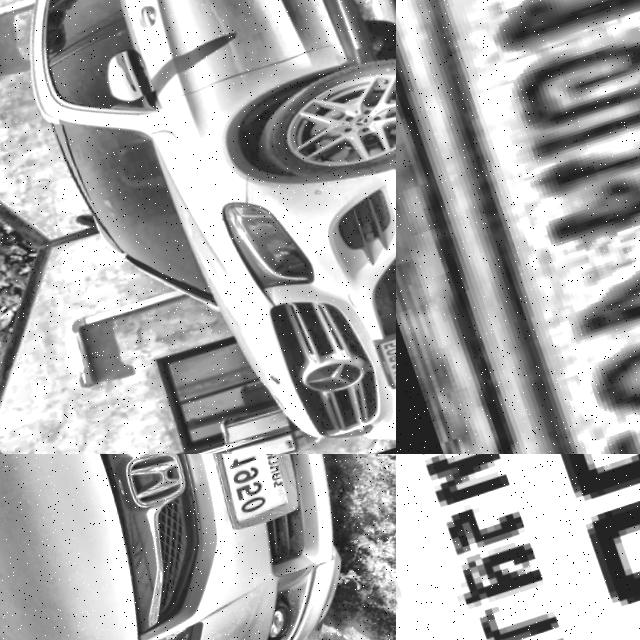license-plate: (396, 0, 640, 454), (396, 454, 640, 640), (174, 454, 311, 542), (358, 332, 396, 402)
